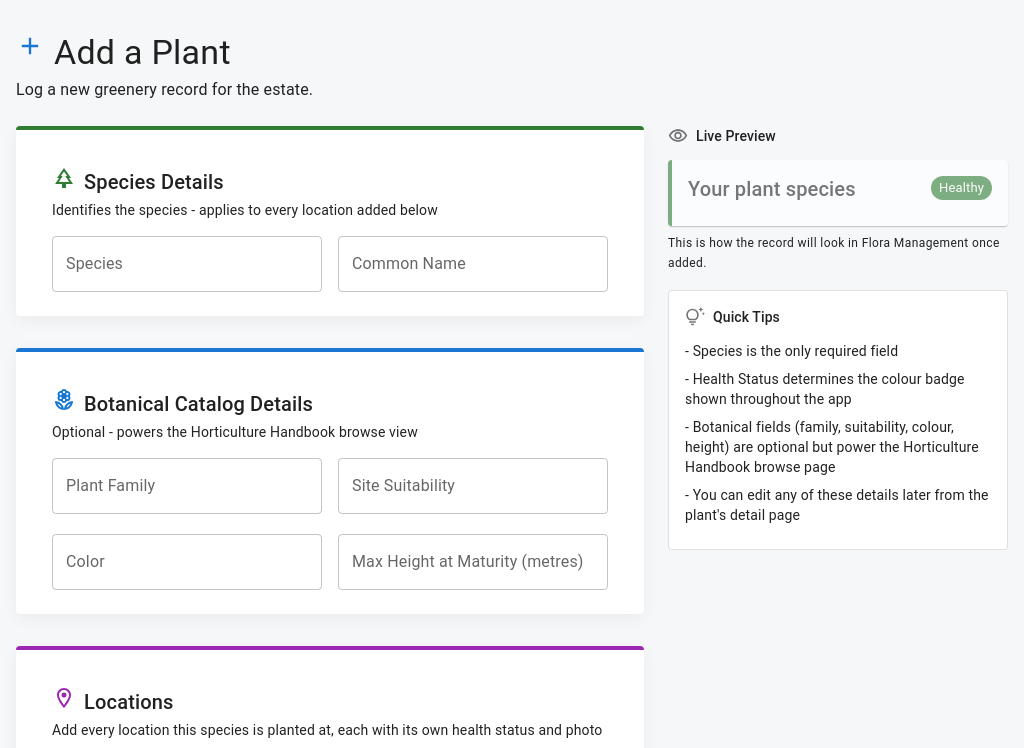
AddFlora › keeps the location visible with an error shown when the submission fails, without navigating away
Step 1. Type "Mango Tree" into the dropdown labelled "Species" → [172, 264], box left=61, top=245, right=283, bottom=283
(page scrolled)
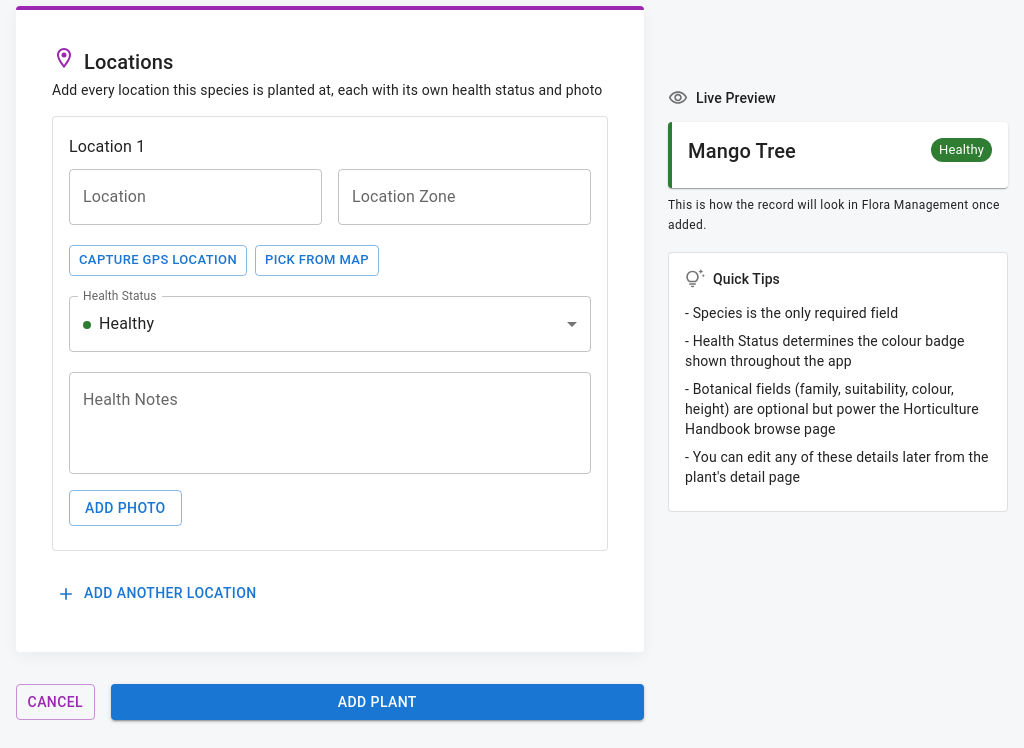
Step 2. Click the button "Add Plant" → [377, 702], box left=111, top=684, right=644, bottom=720
(page scrolled)
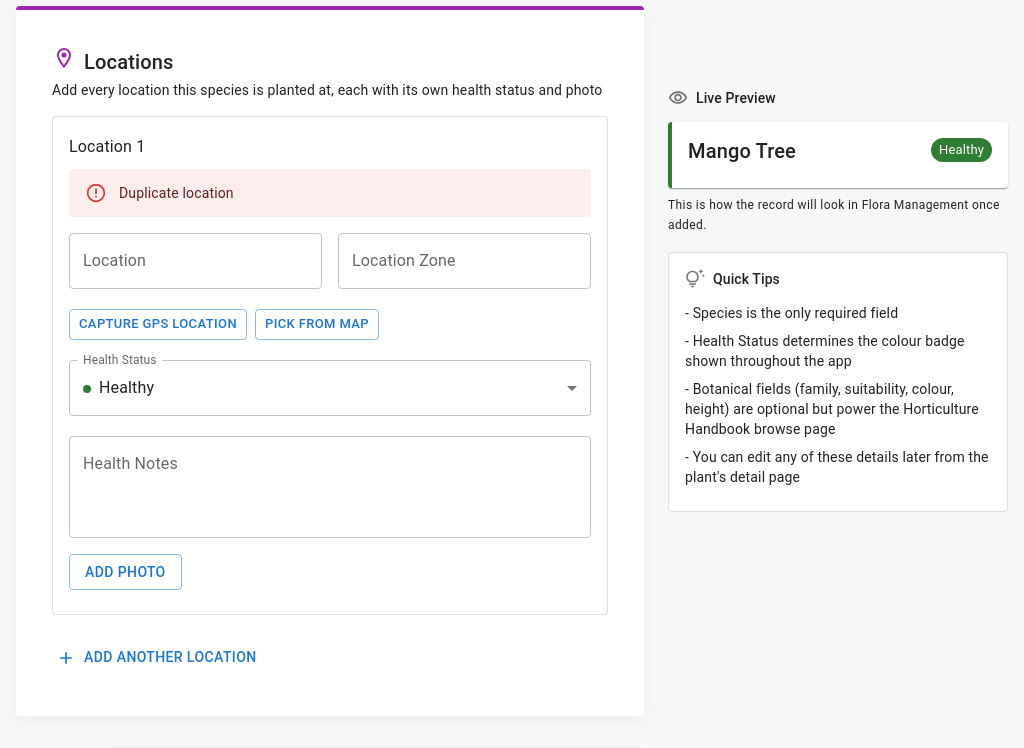
Expected: the heading "Location 1" is shown, left=69, top=133, right=145, bottom=161
Now the text "Duplicate location" is shown, box left=119, top=185, right=234, bottom=201
